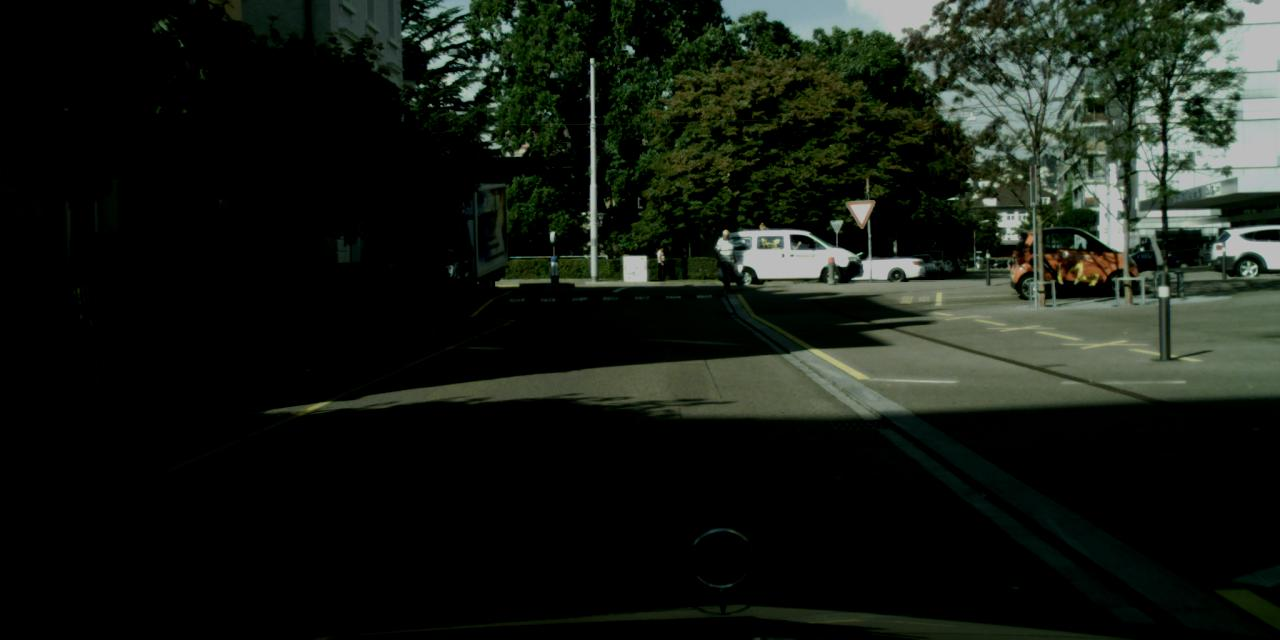ped: (714, 228, 738, 290), (654, 245, 668, 279)
